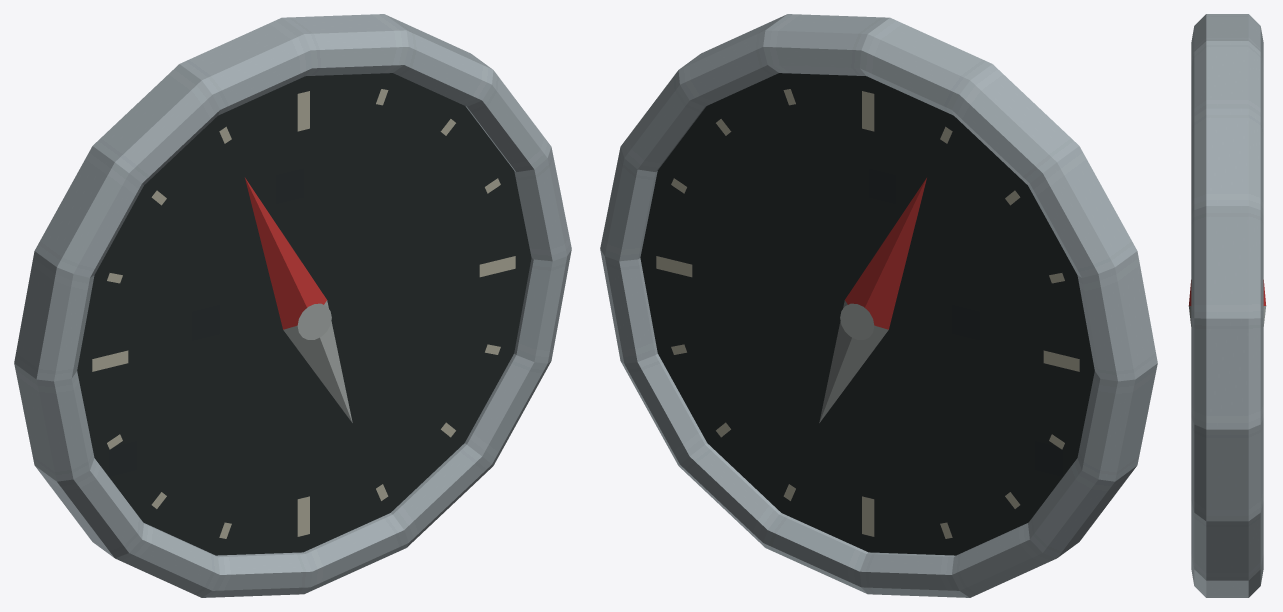
The model's file is compass_14.obj.
The picture shows the model from 3 angles, left to right: view 1: azimuth 30°, elevation 25°; view 2: azimuth 150°, elevation 25°; view 3: azimuth 270°, elevation 25°; orthographic projection. The views are drawn at different scales.
Bounding box in the file's own units: 0.6037 × 0.6037 × 0.085.
